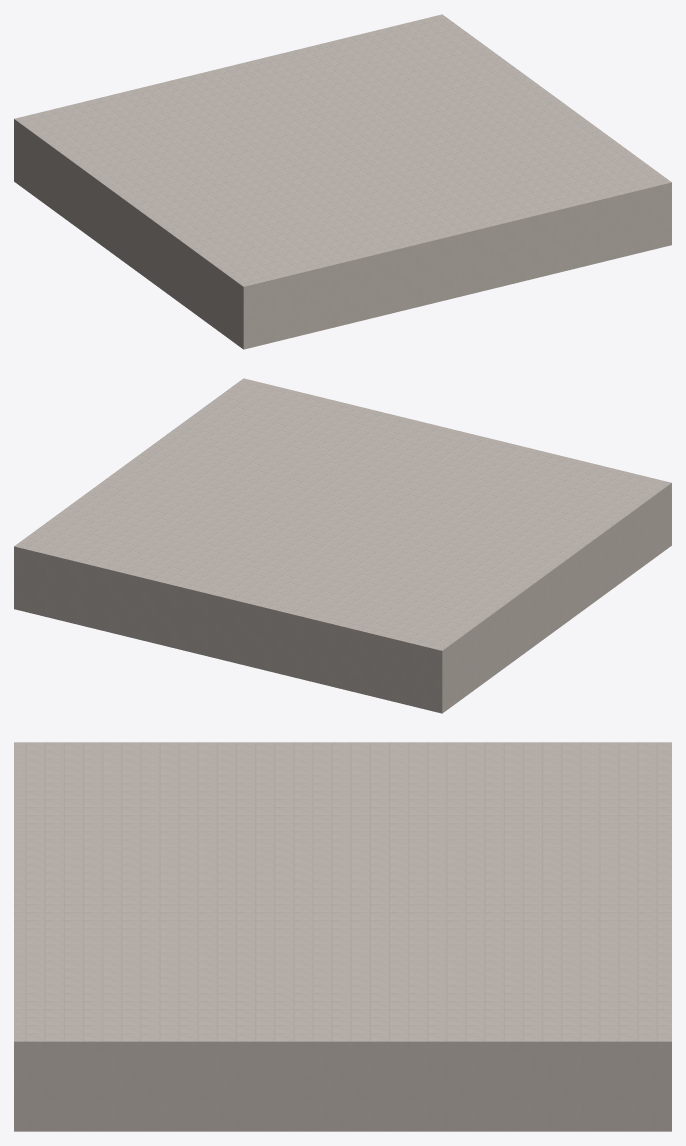
Rendered from BigRoom.glb.
3 views of the same model, one above another, from view 1: azimuth 30°, elevation 25°; view 2: azimuth 150°, elevation 25°; view 3: azimuth 270°, elevation 25° (orthographic). The views are drawn at different scales.
Parts seen in each view (by area): view 1: BigRoom; view 2: BigRoom; view 3: BigRoom.
Part boxes in pixels (x1,y1,x2,y2): BigRoom: (14,14,671,349); BigRoom: (14,378,671,713); BigRoom: (14,742,671,1131).
Size of what is drawn, in the model's own units: 24.94 by 3.49 by 23.16.
4 materials, 3 textured.
